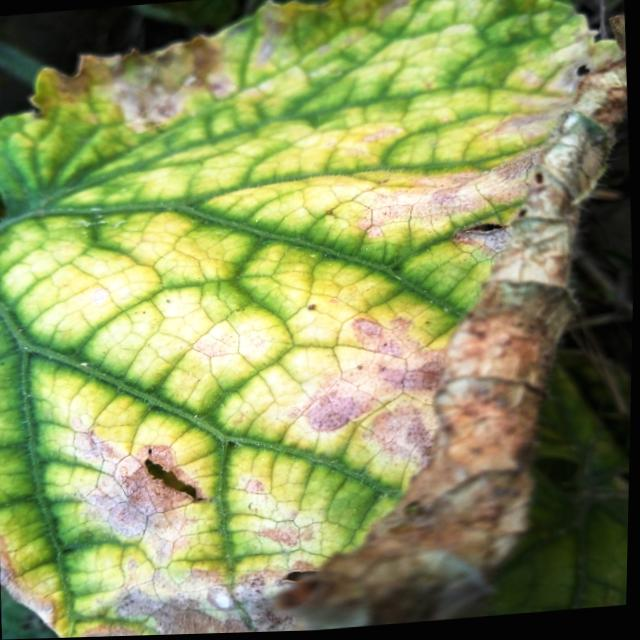Gummy-Stem-Blight: (270, 11, 628, 631)
